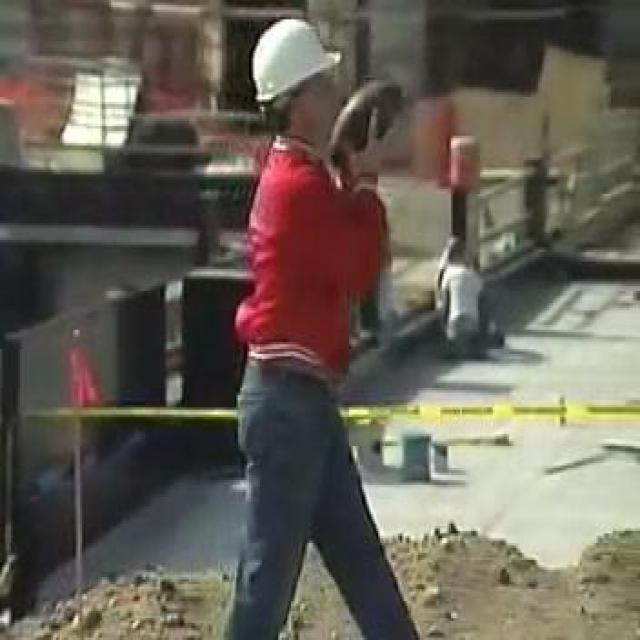Reflective-Jacket: (220, 133, 396, 412)
Safety-Helmet: (236, 5, 348, 116)
